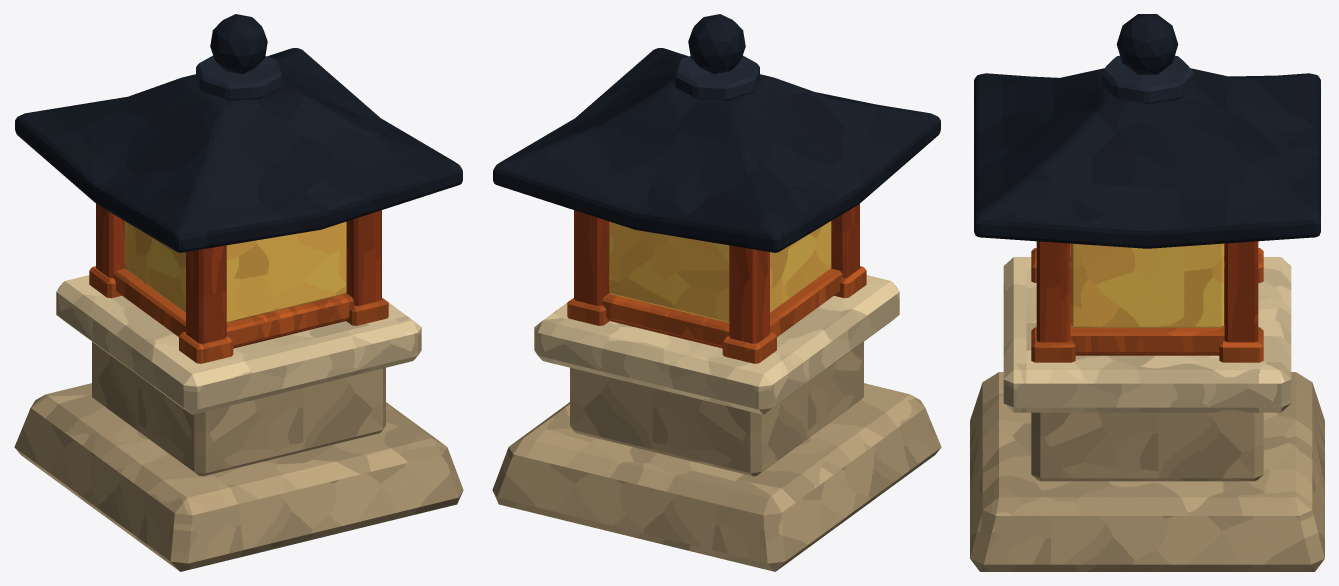
Rendered from Test_Cheon_Lantern.fbx.
3 renders of one model, left to right at view 1: azimuth 30°, elevation 25°; view 2: azimuth 150°, elevation 25°; view 3: azimuth 270°, elevation 25°, orthographic. The views are drawn at different scales.
Visible parts, largest first — view 1: Lantern_Hipped_StoneRoof, Stone_Base, Stone_Platform, Stone_Pedestal, Hanji_Luminous_FrontBack, Lantern_CornerPost, Hanji_Luminous_Side, Lantern_FrontRail, Lantern_CornerPost.002, Lantern_FinialCollar, Lantern_StoneFinial, Lantern_SideRail (+4 smaller); view 2: Lantern_Hipped_StoneRoof, Stone_Base, Stone_Platform, Stone_Pedestal, Hanji_Luminous_FrontBack.001, Lantern_CornerPost.001, Hanji_Luminous_Side, Lantern_BackRail, Lantern_CornerPost.003, Lantern_FinialCollar, Lantern_StoneFinial, Lantern_SideRail (+4 smaller); view 3: Lantern_Hipped_StoneRoof, Stone_Base, Stone_Platform, Stone_Pedestal, Hanji_Luminous_Side.001, Lantern_SideRail.001, Lantern_CornerPost.003, Lantern_CornerPost.002, Lantern_FinialCollar, Lantern_StoneFinial, Lantern_CornerFoot.002, Lantern_CornerFoot.003 (+1 smaller).
Part boxes in pixels (x1,y1,x2,y2): Lantern_Hipped_StoneRoof: [15, 48, 462, 252]; Stone_Base: [14, 383, 463, 571]; Stone_Platform: [56, 275, 421, 414]; Stone_Pedestal: [92, 342, 385, 476]; Hanji_Luminous_FrontBack: [226, 221, 346, 322]; Lantern_CornerPost: [186, 245, 226, 343]; Hanji_Luminous_Side: [124, 221, 185, 312]; Lantern_FrontRail: [226, 293, 353, 346]; Lantern_CornerPost.002: [346, 210, 381, 305]; Lantern_FinialCollar: [196, 55, 281, 100]; Lantern_StoneFinial: [210, 14, 267, 73]; Lantern_SideRail: [113, 268, 185, 336]; Lantern_Hipped_StoneRoof: [493, 48, 940, 252]; Stone_Base: [492, 383, 941, 571]; Stone_Platform: [534, 275, 899, 414]; Stone_Pedestal: [570, 342, 863, 476]; Hanji_Luminous_FrontBack.001: [609, 221, 729, 322]; Lantern_CornerPost.001: [729, 245, 769, 343]; Hanji_Luminous_Side: [770, 221, 831, 312]; Lantern_BackRail: [602, 293, 729, 346]; Lantern_CornerPost.003: [574, 210, 609, 305]; Lantern_FinialCollar: [674, 55, 759, 100]; Lantern_StoneFinial: [688, 14, 745, 73]; Lantern_SideRail: [770, 268, 842, 336]; Lantern_Hipped_StoneRoof: [974, 68, 1320, 248]; Stone_Base: [970, 372, 1324, 571]; Stone_Platform: [1003, 257, 1291, 412]; Stone_Pedestal: [1031, 412, 1263, 481]; Hanji_Luminous_Side.001: [1071, 243, 1223, 327]; Lantern_SideRail.001: [1070, 323, 1224, 353]; Lantern_CornerPost.003: [1224, 241, 1258, 342]; Lantern_CornerPost.002: [1036, 241, 1070, 342]; Lantern_FinialCollar: [1101, 55, 1193, 104]; Lantern_StoneFinial: [1116, 14, 1178, 74]; Lantern_CornerFoot.002: [1031, 327, 1075, 362]; Lantern_CornerFoot.003: [1219, 327, 1263, 362].
Bounding box in the file's own units: 1.21 × 1.83 × 1.21.
